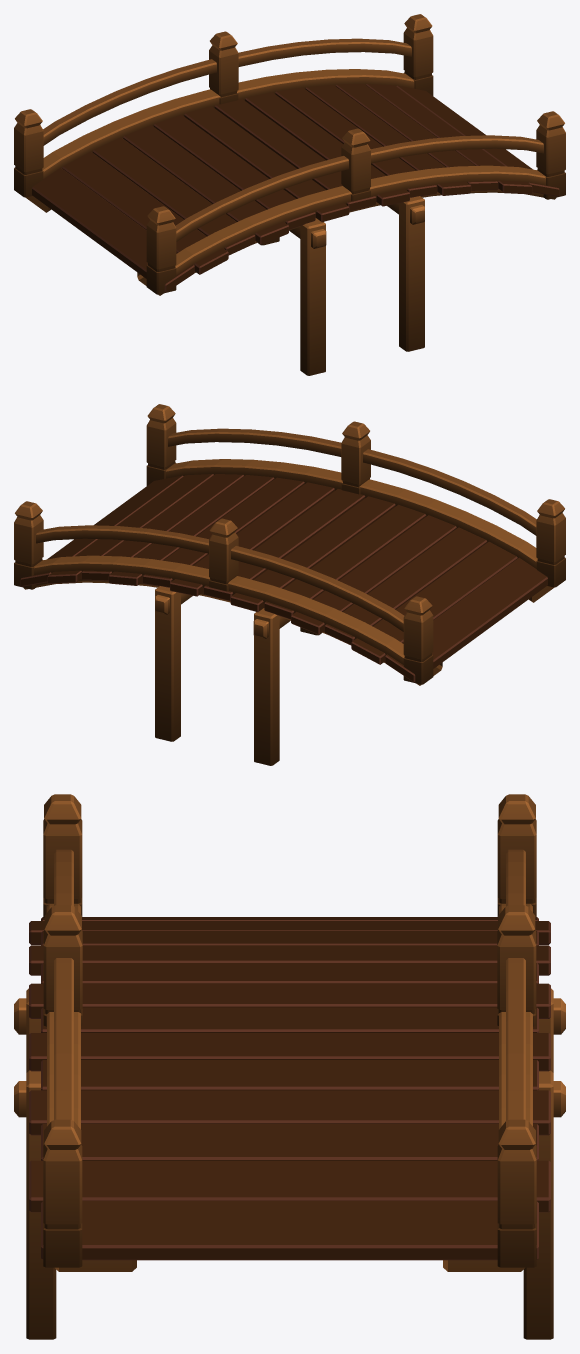
The model's file is Bridge-3.fbx.
3 renders of one model, top to bottom at view 1: azimuth 30°, elevation 25°; view 2: azimuth 150°, elevation 25°; view 3: azimuth 270°, elevation 25°, orthographic. The views are drawn at different scales.
Parts seen in each view (by area): view 1: Bridge-3; view 2: Bridge-3; view 3: Bridge-3.
Part boxes in pixels (bbox=[...]): Bridge-3: bbox=[14, 14, 565, 375]; Bridge-3: bbox=[14, 404, 565, 765]; Bridge-3: bbox=[14, 794, 565, 1339].
Size of the model in its own units: 747 by 389 by 509.
